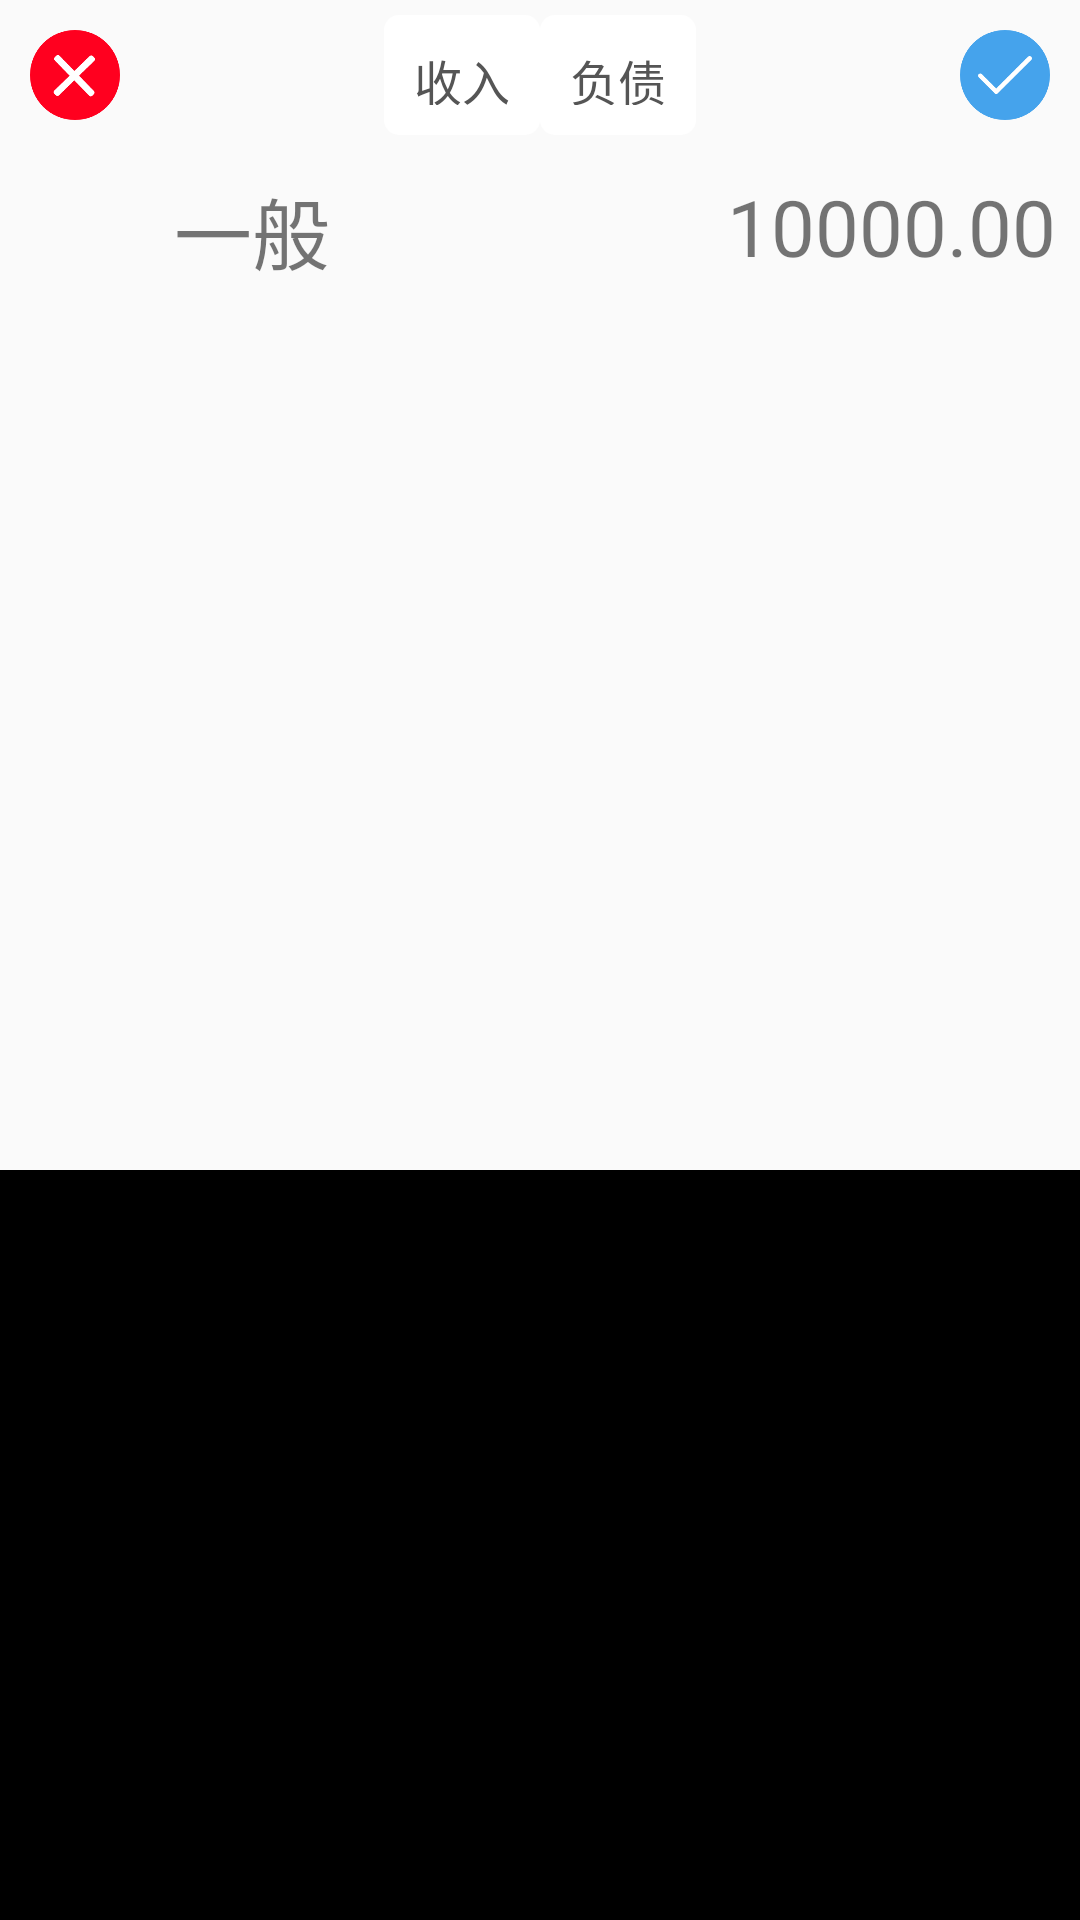

Named icons in this screenshot (1080*1920) and their bounding boxes, {"x1": x1, "y1": y1, "x2": x2, "y2": y2}:
cancel: {"x1": 30, "y1": 30, "x2": 120, "y2": 120}
yes: {"x1": 960, "y1": 30, "x2": 1050, "y2": 120}
